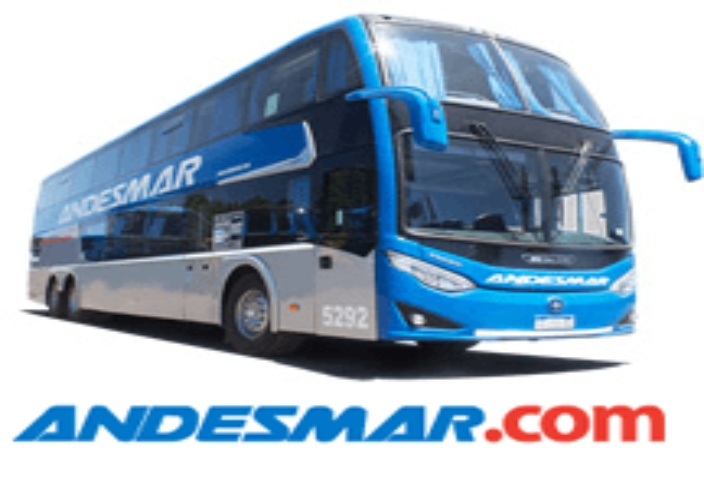bus: (20, 7, 704, 374)
